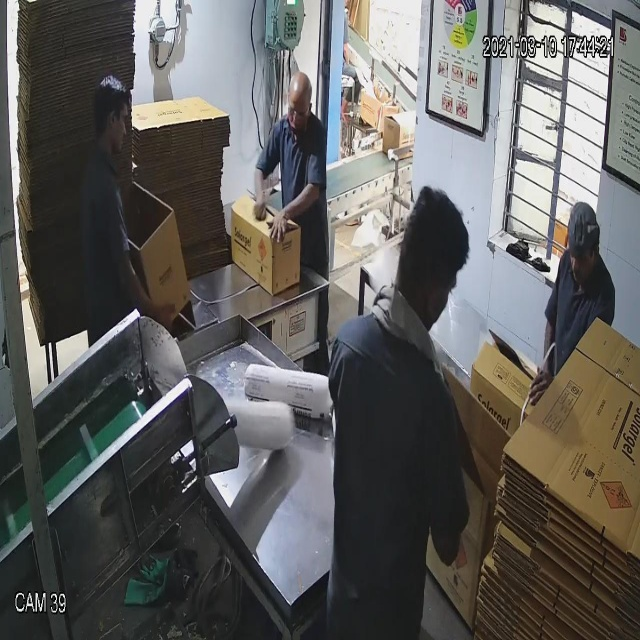Sin_guantes: (128, 260, 181, 348), (266, 179, 328, 244), (253, 163, 274, 229)
